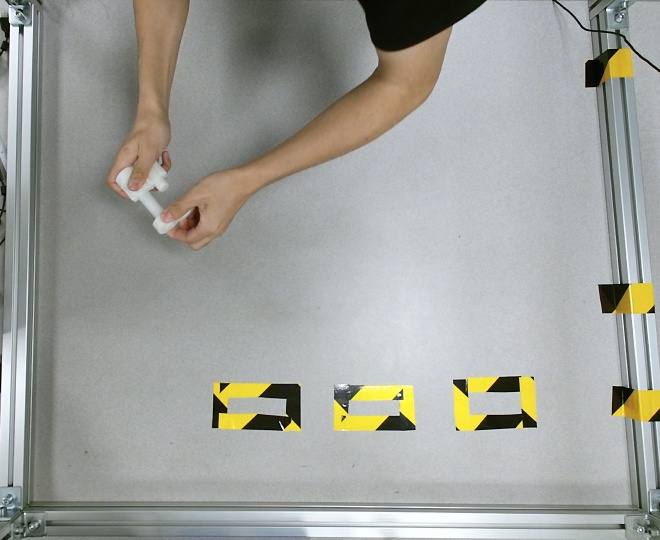stage_3: (114, 157, 170, 232)
